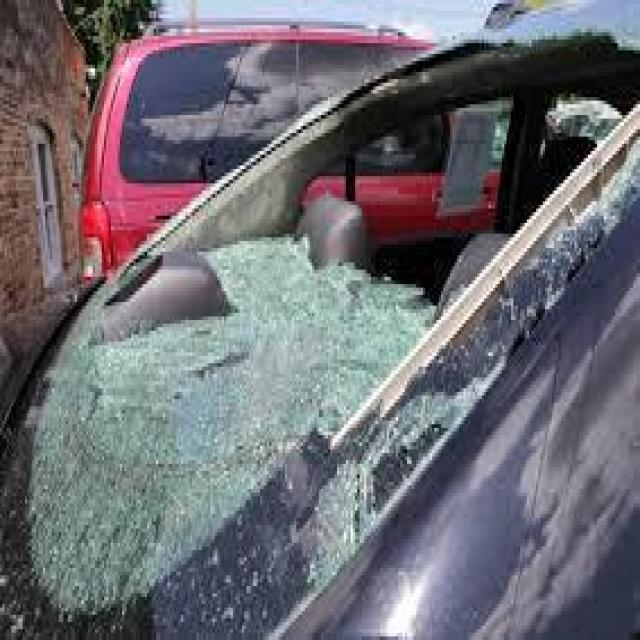damaged: (11, 219, 455, 636), (457, 115, 638, 421)
